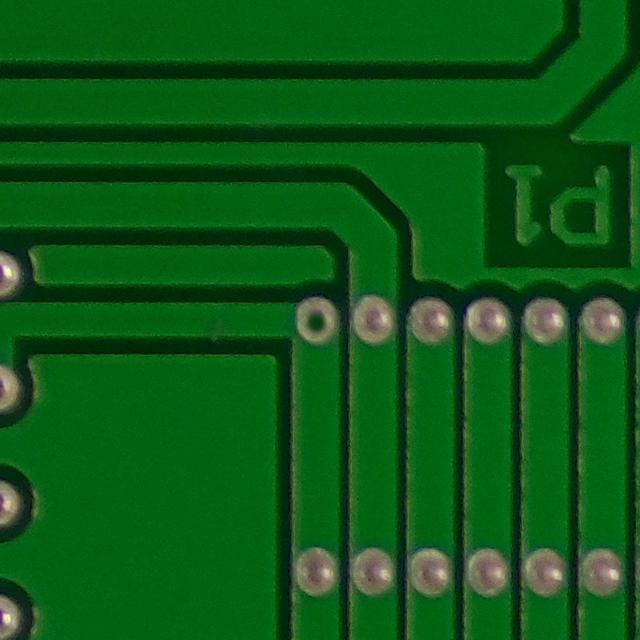missing_hole: (293, 288, 343, 352)
